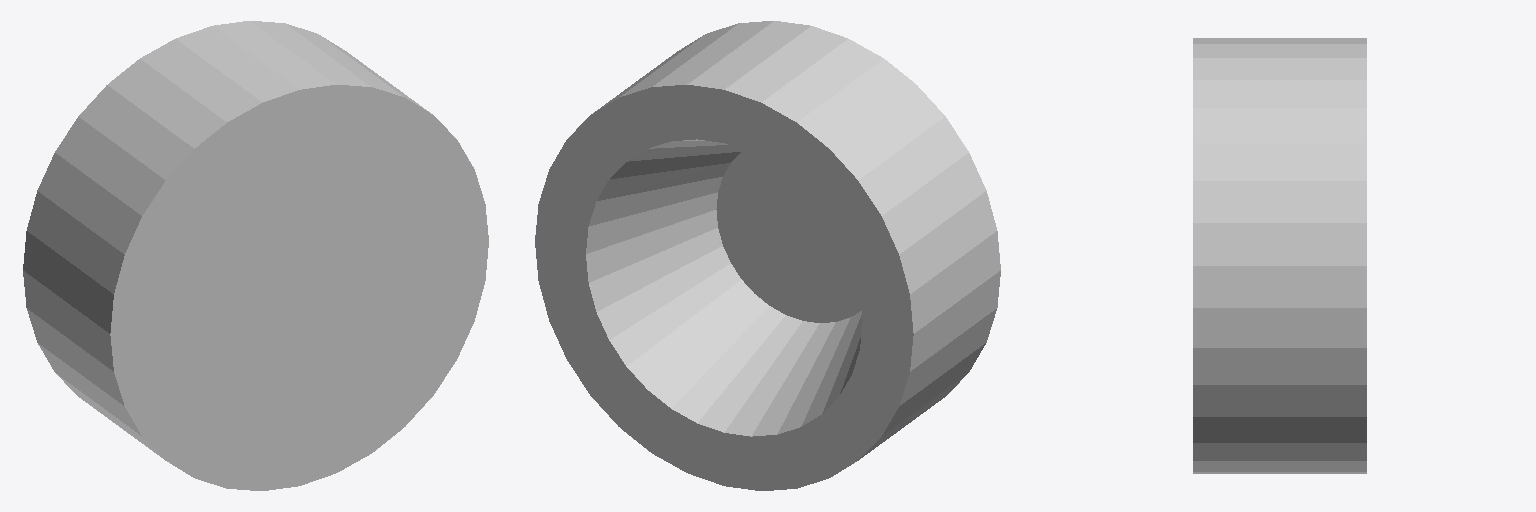
3 renders of one model, left to right at view 1: azimuth 30°, elevation 25°; view 2: azimuth 150°, elevation 25°; view 3: azimuth 270°, elevation 25°, orthographic.
Parts seen in each view (by area): view 1: 円柱; view 2: 円柱; view 3: 円柱.
Part boxes in pixels (bbox=[...]): 円柱: bbox=[23, 21, 488, 490]; 円柱: bbox=[535, 21, 1000, 490]; 円柱: bbox=[1193, 38, 1366, 473].
Bounding box in the file's own units: 2 × 2 × 0.8.
1 materials, 1 textured.